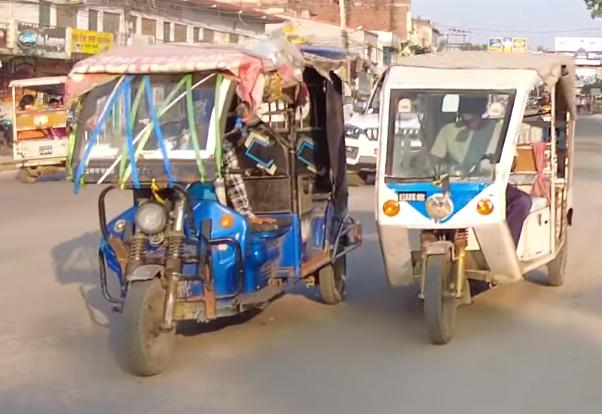e-rickshaw: (58, 41, 348, 377), (378, 43, 572, 344)
